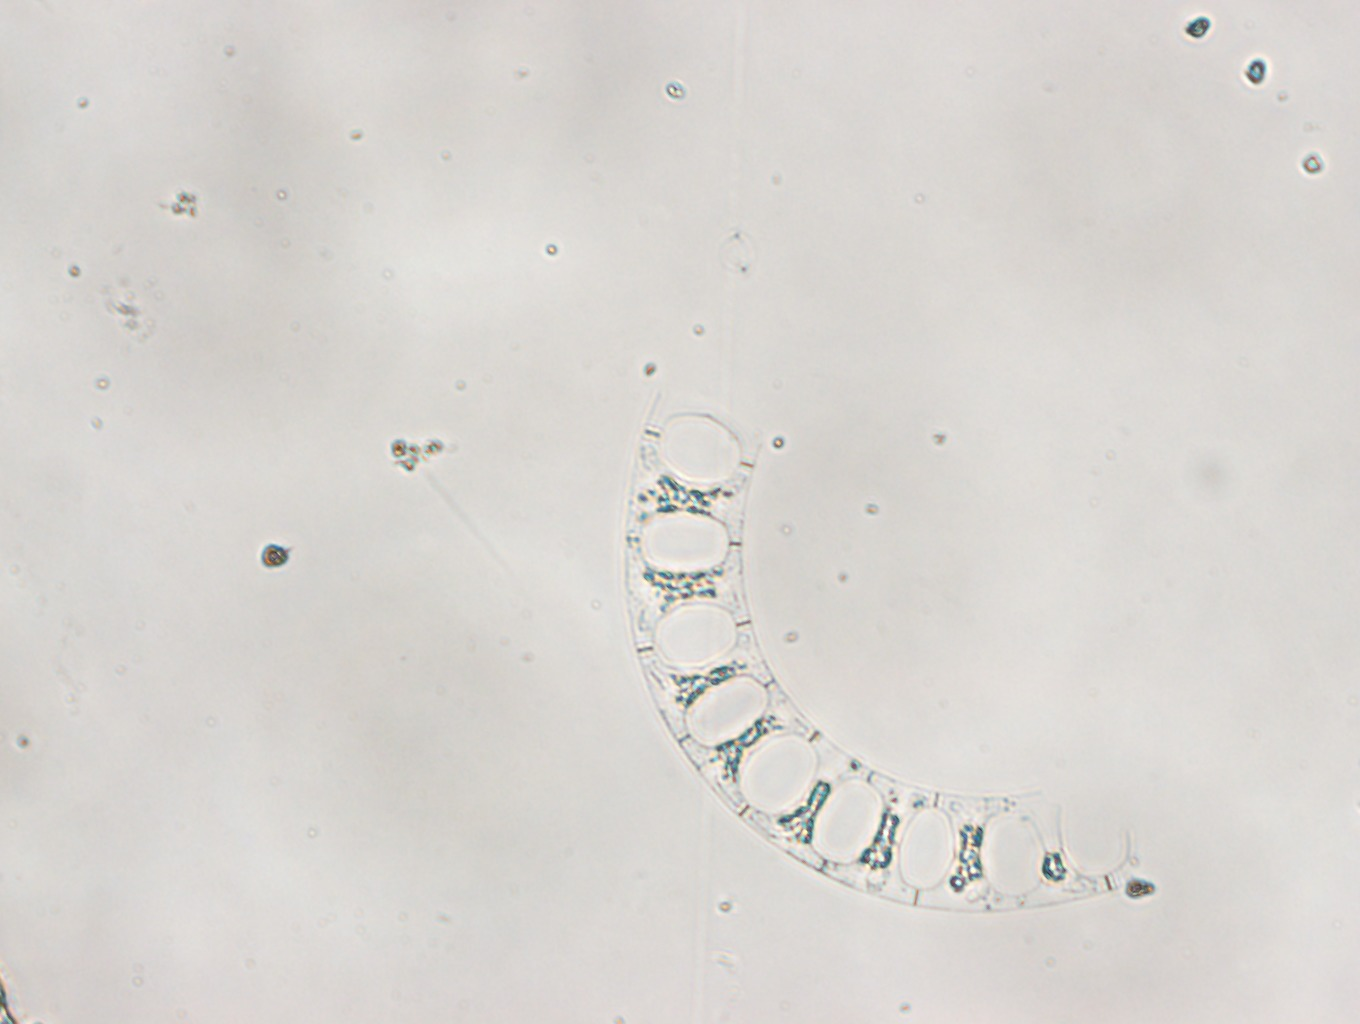eucampia: (622, 387, 1165, 911)
